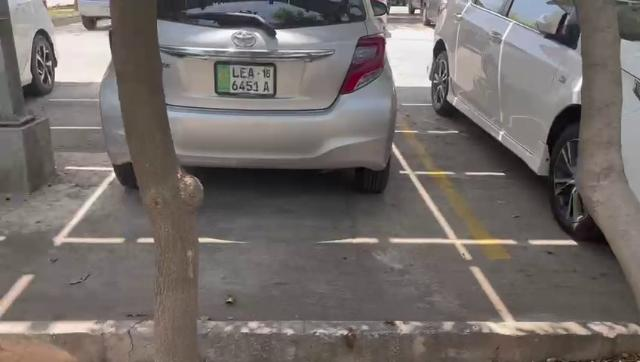plate: (211, 58, 277, 98)
